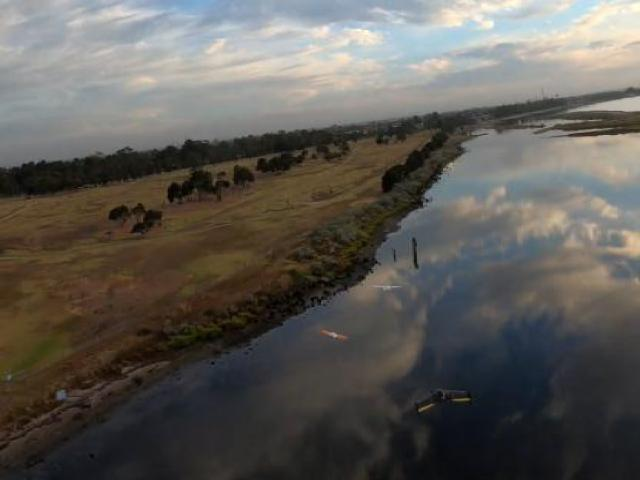uav: (413, 385, 475, 415), (318, 324, 350, 343), (373, 280, 401, 292)
